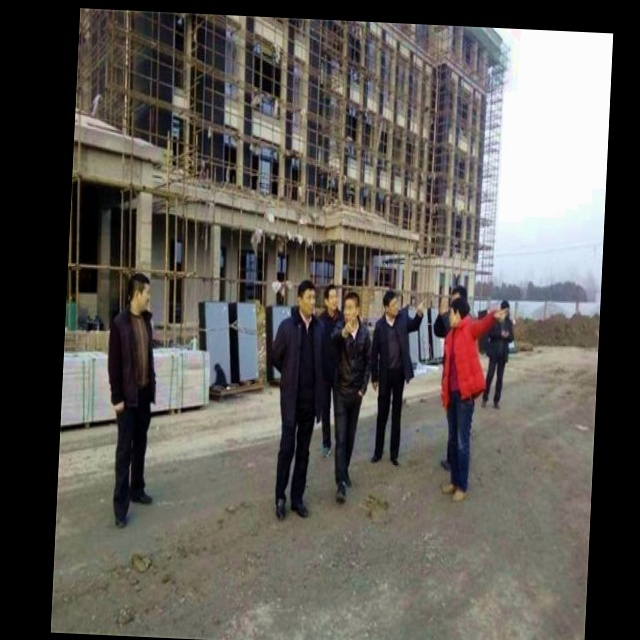Sin_Casco_Mascarrilla: (342, 291, 361, 325), (382, 291, 400, 318)
Sin_Chaleco: (278, 311, 326, 409), (108, 308, 156, 398)
